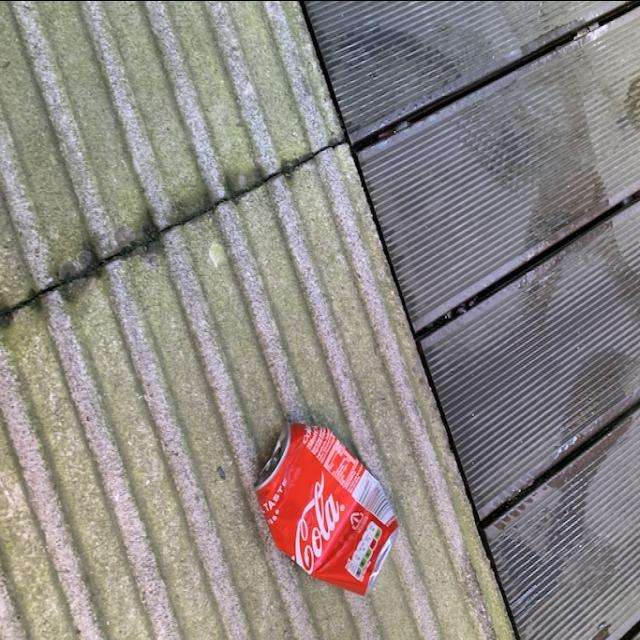Aluminum Can: (260, 376, 398, 614)
